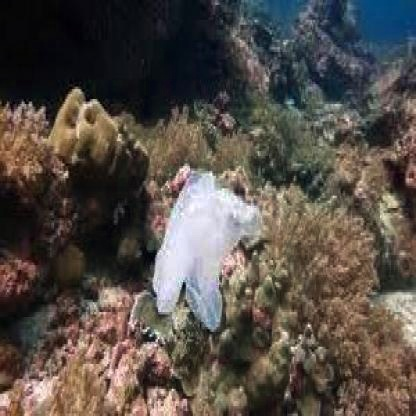pbag: (151, 168, 271, 335)
